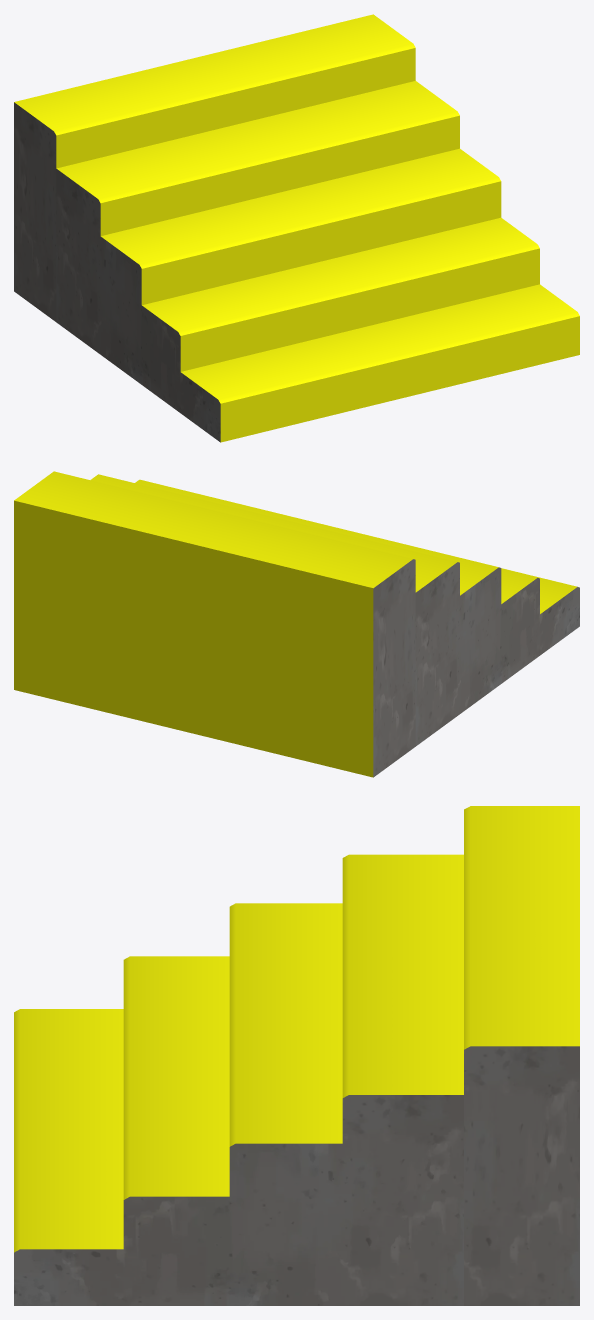
The model's file is stairs-entrance-concrete.glb.
3 renders of one model, top to bottom at view 1: azimuth 30°, elevation 25°; view 2: azimuth 150°, elevation 25°; view 3: azimuth 270°, elevation 25°, orthographic. The views are drawn at different scales.
Parts seen in each view (by area): view 1: Stairs_Entrance_Concrete; view 2: Stairs_Entrance_Concrete; view 3: Stairs_Entrance_Concrete.
Boxes of the visible parts, x1,y1,x2,y2 form: Stairs_Entrance_Concrete: (14,14,579,442); Stairs_Entrance_Concrete: (14,471,579,777); Stairs_Entrance_Concrete: (14,806,579,1305).
Size of the model in its own units: 2 by 1.01 by 1.99.
Materials: 2 (1 with a texture image).
